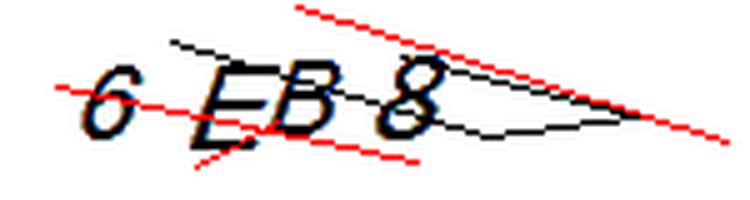6: (74, 58, 158, 146)
8: (369, 53, 460, 147)
B: (262, 52, 352, 148)
E: (185, 53, 284, 158)
